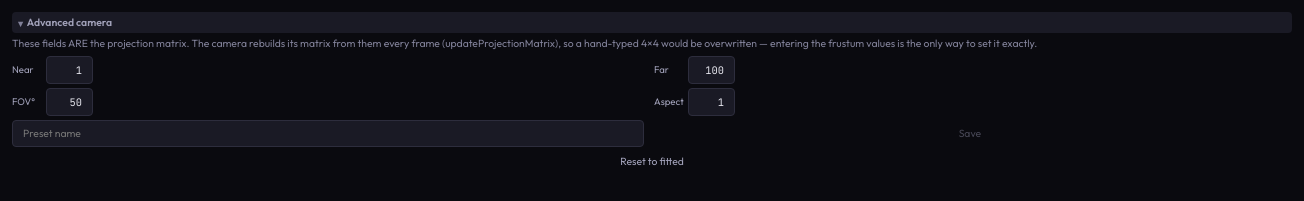
Test: CameraAdvanced — the rules, exercised through the component › rejects far === near — a frustum with no depth
The width and height of the screenshot is (1304, 201).
Replace the text in the number field labelled "Far" with "1" at (711, 70), box [688,56,735,84]
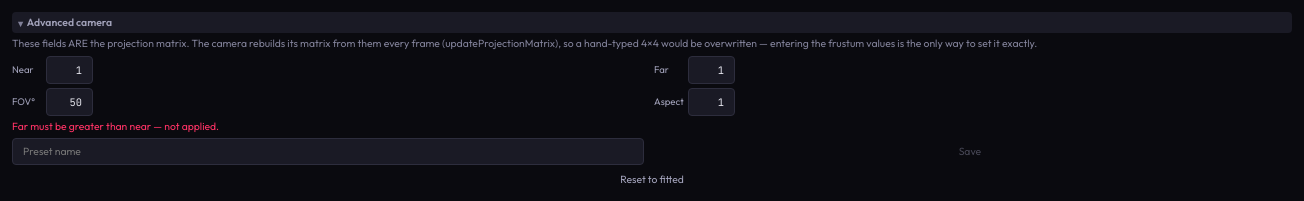
Check: the text "Far must be greater than near" is shown, box [12,120,151,133]
